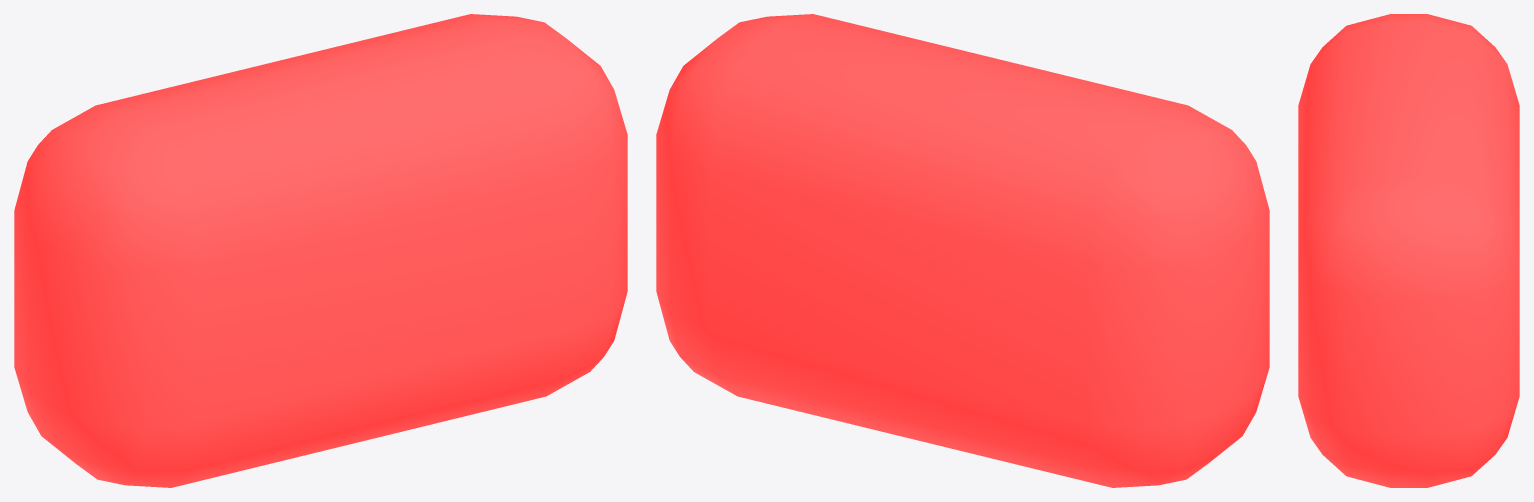
The model's file is striker-puck.glb.
The picture shows the model from 3 angles, left to right: view 1: azimuth 30°, elevation 25°; view 2: azimuth 150°, elevation 25°; view 3: azimuth 270°, elevation 25°; orthographic projection. The views are drawn at different scales.
Parts seen in each view (by area): view 1: striker-puck; view 2: striker-puck; view 3: striker-puck.
Part boxes in pixels (x1=…): striker-puck: x1=14, y1=14, x2=627, y2=487; striker-puck: x1=656, y1=14, x2=1269, y2=487; striker-puck: x1=1298, y1=14, x2=1519, y2=487.
Bounding box in the file's own units: 0.3 × 0.18 × 0.12.
